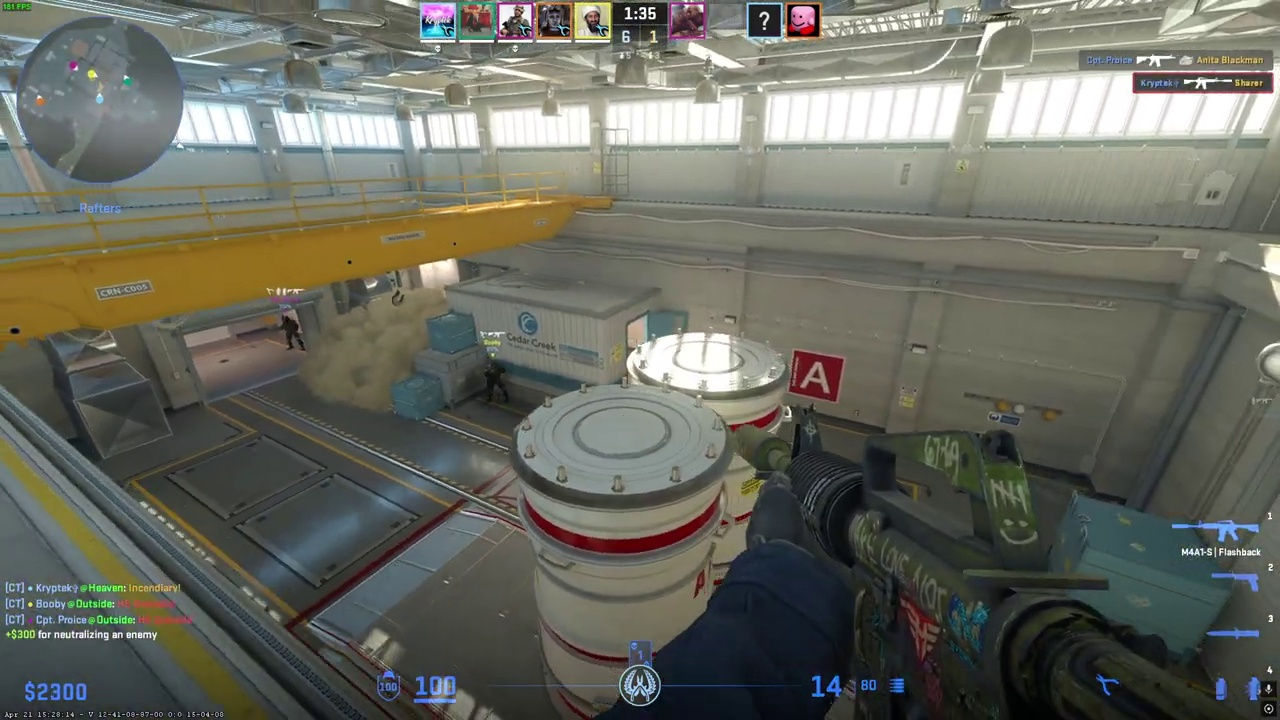CT: (485, 360, 508, 404), (284, 315, 302, 351)
